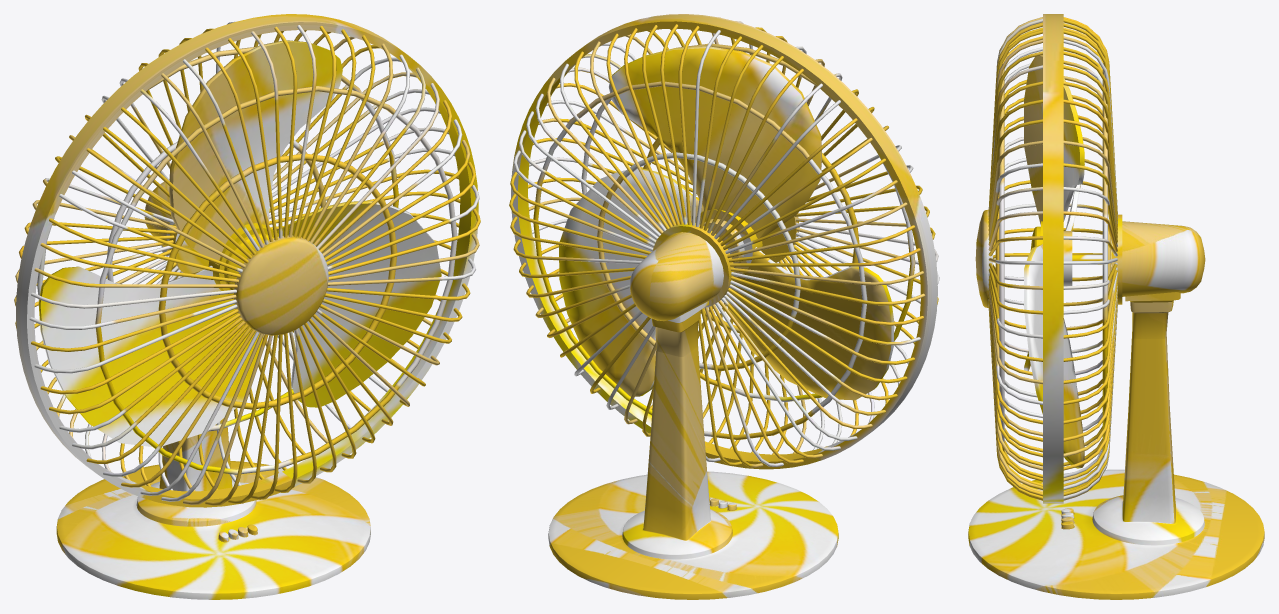
File: deskfan.fbx
The picture shows the model from 3 angles, left to right: view 1: azimuth 30°, elevation 25°; view 2: azimuth 150°, elevation 25°; view 3: azimuth 270°, elevation 25°; orthographic projection. The views are drawn at different scales.
Parts seen in each view (by area): view 1: SM_Fan; view 2: SM_Fan; view 3: SM_Fan.
Part boxes in pixels (bbox=[...]): SM_Fan: bbox=[14, 14, 480, 599]; SM_Fan: bbox=[509, 14, 939, 599]; SM_Fan: bbox=[968, 14, 1264, 599].
Bounding box in the file's own units: 7058 × 7966 × 4273.
